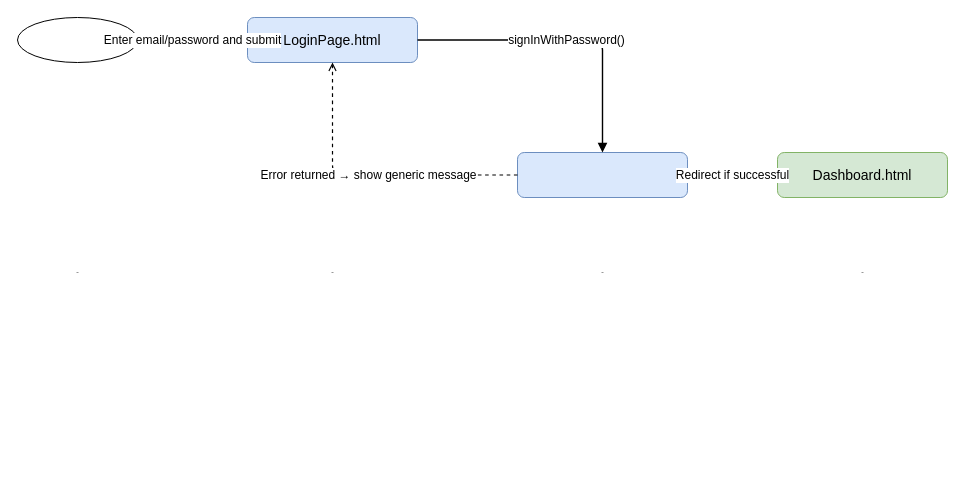
Image size: 965x500. Some labels were removed from this diagram. Each missing label, with the centre of its shape:
"Supabase Auth" goes at (x=602, y=175).
"User" goes at (x=77, y=39).
